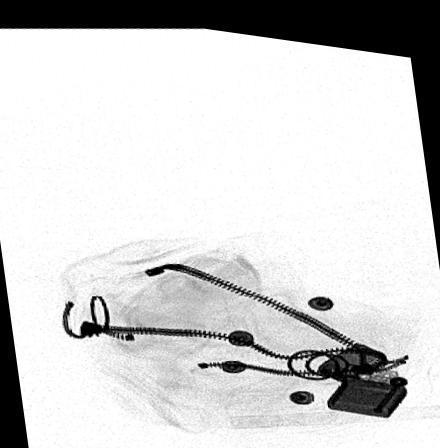Lighter: (326, 367, 407, 407)
